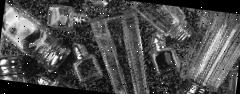glass: (44, 2, 92, 36)
